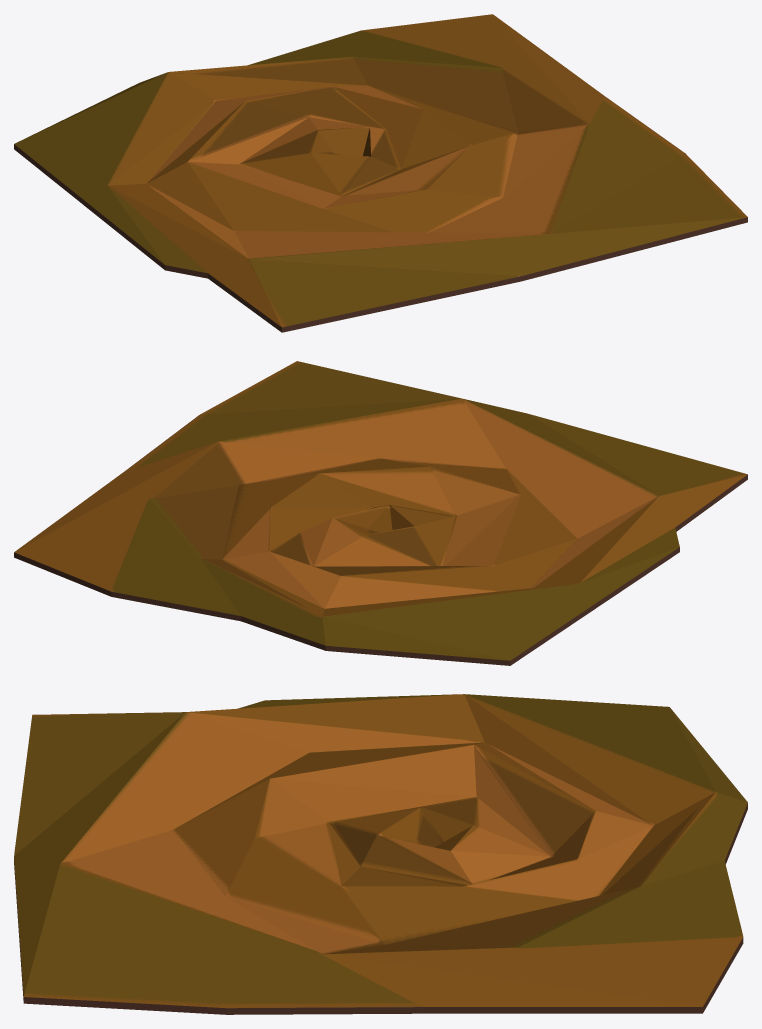
File: Mud02.fbx
3 views of the same model, one above another, from view 1: azimuth 30°, elevation 25°; view 2: azimuth 150°, elevation 25°; view 3: azimuth 270°, elevation 25° (orthographic). The views are drawn at different scales.
Parts seen in each view (by area): view 1: Circle.005; view 2: Circle.005; view 3: Circle.005.
Part boxes in pixels (box(x1,y1,x2,y2)): Circle.005: box(14, 14, 747, 332); Circle.005: box(14, 361, 747, 665); Circle.005: box(14, 694, 747, 1014).
Bounding box in the file's own units: 99.3 × 4.22 × 100.
